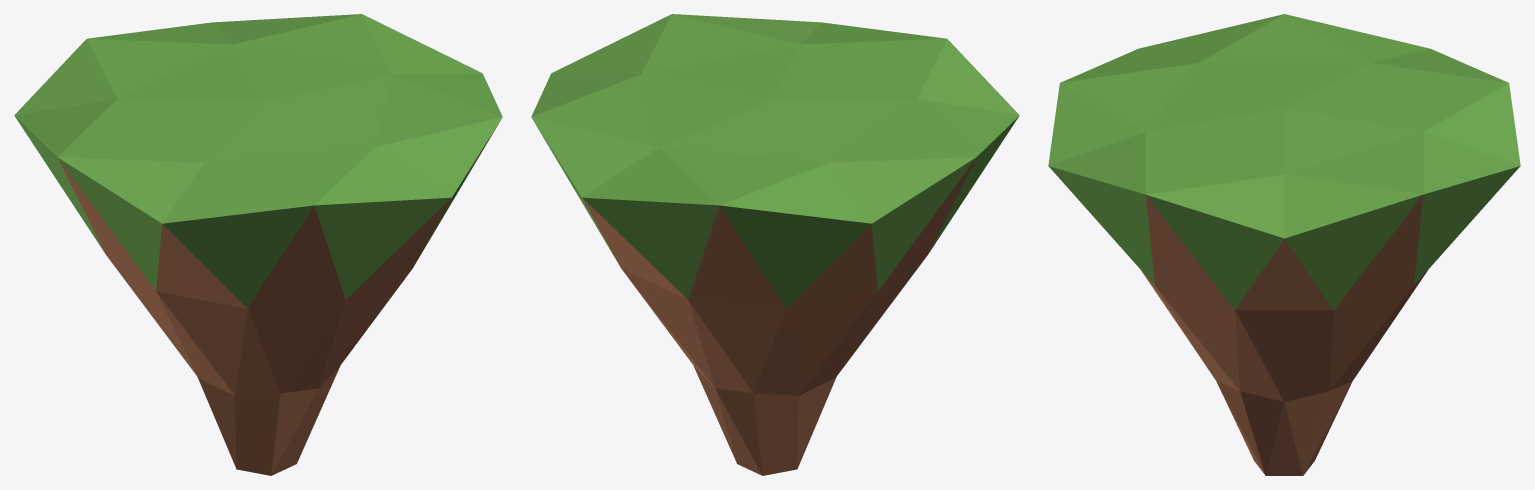
File: Platform_Cone.fbx
The picture shows the model from 3 angles, left to right: view 1: azimuth 30°, elevation 25°; view 2: azimuth 150°, elevation 25°; view 3: azimuth 270°, elevation 25°; orthographic projection.
Parts seen in each view (by area): view 1: Icosphere; view 2: Icosphere; view 3: Icosphere.
Boxes of the visible parts, bbox=[...] form: Icosphere: bbox=[14, 14, 502, 475]; Icosphere: bbox=[531, 14, 1019, 475]; Icosphere: bbox=[1048, 14, 1520, 475].
Bounding box in the file's own units: 298 × 247 × 290.
